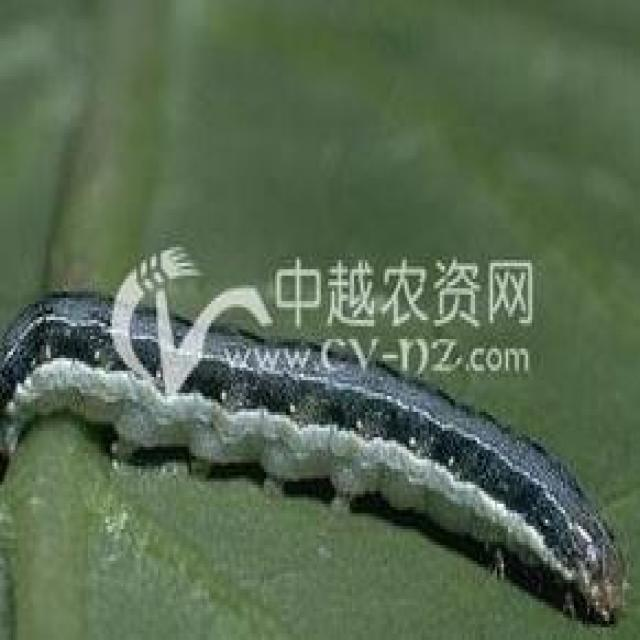BeetArmyWorm-Larva-: (7, 286, 633, 626)
